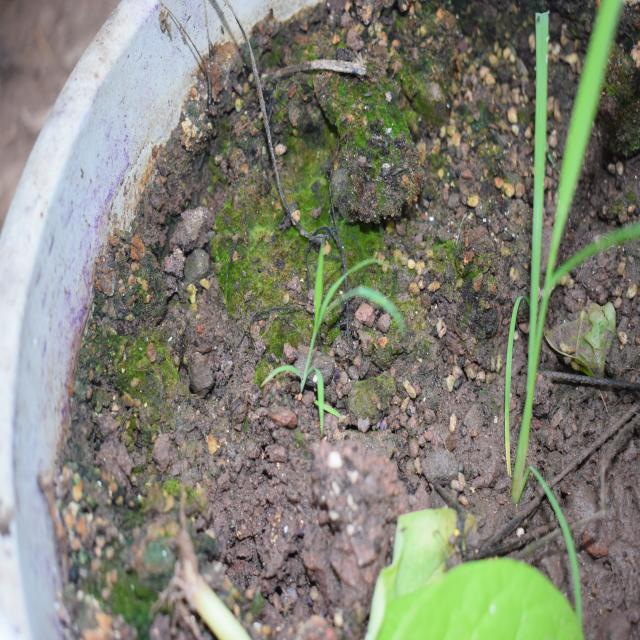barnyard_grass: (470, 37, 620, 519)
